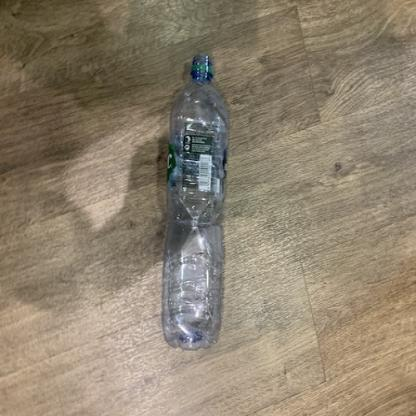trash: (159, 52, 231, 355)
